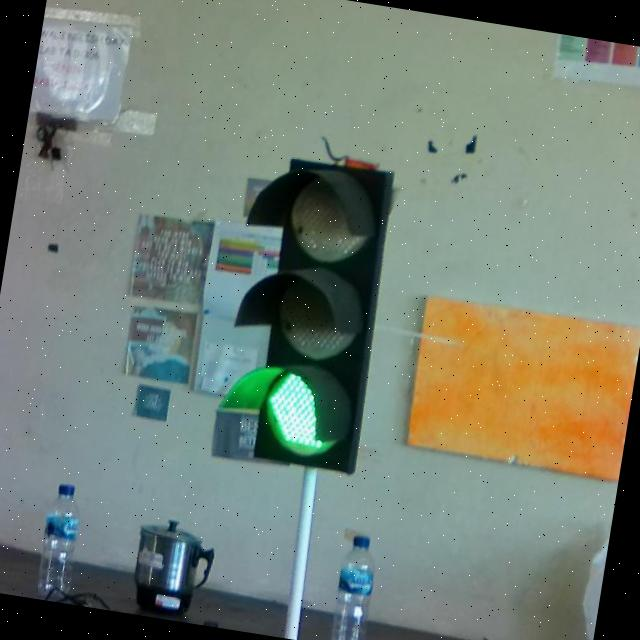green_light: (210, 151, 405, 479)
